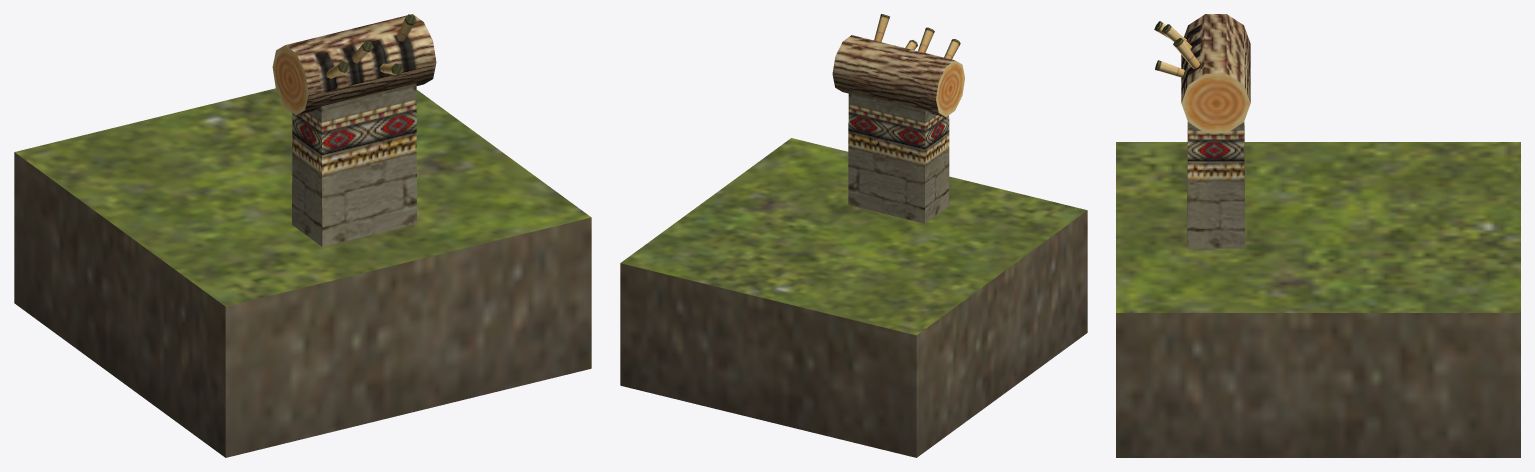
File: jun_console.obj
3 renders of one model, left to right at view 1: azimuth 30°, elevation 25°; view 2: azimuth 150°, elevation 25°; view 3: azimuth 270°, elevation 25°, orthographic. The views are drawn at different scales.
Parts seen in each view (by area): view 1: tile_boundary_console; view 2: tile_boundary_console; view 3: tile_boundary_console.
Boxes of the visible parts, <box> form: tile_boundary_console: <box>14,14,591,457</box>; tile_boundary_console: <box>620,14,1087,457</box>; tile_boundary_console: <box>1116,14,1520,457</box>.
Size of the model in its own units: 1 by 0.9541 by 1.
1 material, 1 textured.
